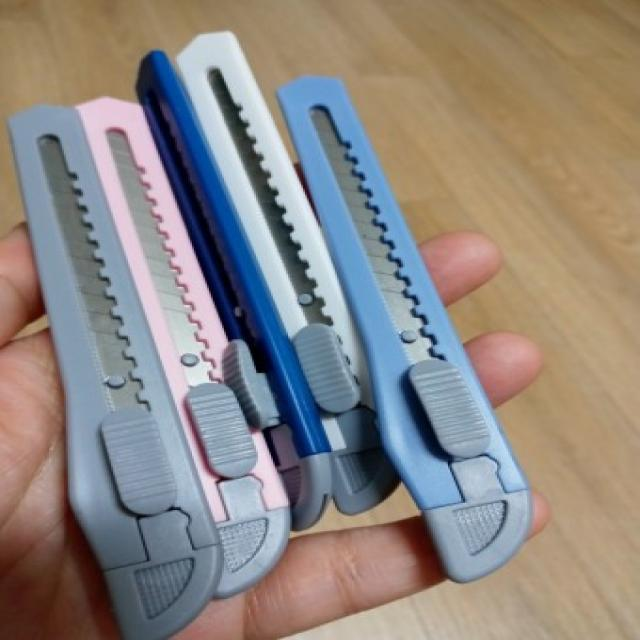cutter: (270, 65, 532, 589), (0, 99, 226, 633), (68, 91, 295, 604), (174, 29, 398, 514), (129, 46, 334, 529)
